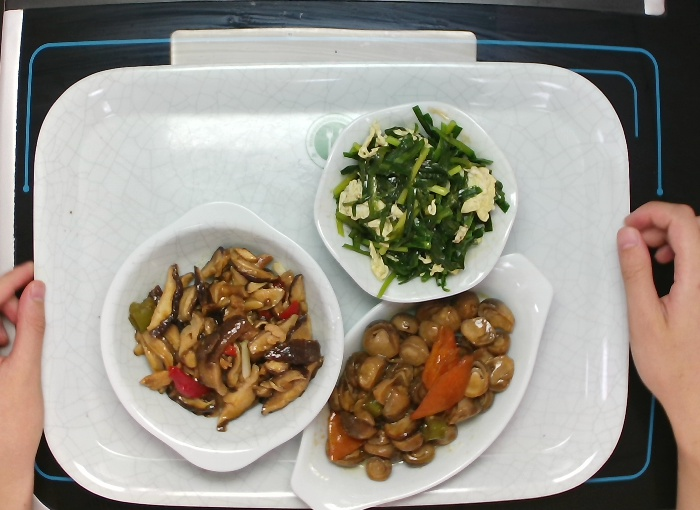JYsf-Shuang_Er_Wan: (95, 196, 351, 476)
WCQzf-Hua_Duo_Wan: (310, 95, 520, 308)
